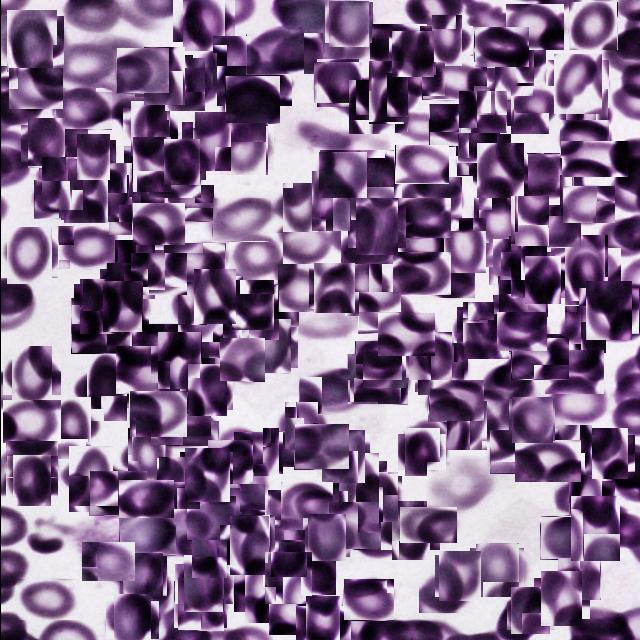red blood cell: (70, 298, 131, 354), (566, 499, 623, 557), (298, 368, 368, 415), (556, 242, 614, 298), (269, 218, 335, 266), (543, 376, 607, 425), (522, 156, 578, 212), (426, 462, 490, 511), (346, 354, 407, 405), (63, 451, 118, 507), (4, 13, 59, 69), (115, 346, 179, 394), (216, 66, 291, 106), (550, 57, 605, 111), (79, 360, 133, 414), (216, 119, 270, 173), (582, 284, 634, 338), (162, 243, 225, 287), (514, 440, 580, 482), (458, 304, 511, 356), (172, 286, 225, 338), (338, 166, 391, 218), (108, 187, 165, 235), (57, 226, 119, 270), (128, 391, 186, 438), (474, 144, 526, 196), (362, 66, 414, 118), (506, 154, 559, 205), (505, 4, 563, 50), (84, 167, 136, 218), (401, 177, 461, 221), (224, 76, 279, 124), (488, 239, 545, 285), (88, 471, 146, 516), (245, 30, 303, 75), (357, 292, 419, 334), (488, 44, 539, 95), (153, 335, 204, 386), (211, 198, 270, 242), (544, 350, 603, 394), (370, 24, 428, 68), (46, 402, 96, 453), (441, 394, 491, 445), (3, 230, 54, 280), (16, 579, 78, 620), (228, 233, 282, 280), (52, 45, 117, 84), (293, 424, 348, 470), (238, 567, 288, 617), (109, 244, 159, 294), (174, 580, 224, 630), (138, 51, 188, 101), (346, 82, 396, 132), (306, 176, 356, 226), (181, 450, 231, 500), (262, 553, 312, 603), (351, 202, 401, 252), (76, 282, 126, 332), (280, 482, 332, 530), (2, 400, 60, 443), (392, 252, 450, 295), (421, 62, 486, 100), (489, 430, 545, 474), (377, 313, 434, 356), (416, 344, 465, 394), (245, 322, 294, 372), (6, 350, 56, 399), (224, 520, 273, 570), (327, 502, 378, 550), (115, 48, 168, 94), (522, 205, 580, 247), (54, 88, 112, 130), (510, 338, 568, 380), (428, 104, 484, 147), (472, 545, 521, 594), (385, 506, 434, 555), (333, 457, 382, 506), (186, 117, 235, 166), (562, 92, 610, 142), (40, 132, 90, 180), (277, 264, 327, 312), (178, 560, 228, 608), (190, 272, 238, 322), (177, 0, 228, 47), (156, 392, 210, 436), (561, 141, 627, 177), (428, 379, 483, 422), (439, 222, 488, 270), (318, 432, 367, 480), (537, 574, 585, 623), (130, 253, 186, 295), (129, 324, 184, 366), (7, 68, 62, 110), (122, 432, 170, 480), (550, 421, 598, 469), (338, 263, 386, 311), (568, 2, 616, 50), (509, 86, 557, 134), (62, 174, 110, 222), (38, 160, 86, 208), (185, 524, 233, 572), (318, 150, 366, 198), (131, 203, 184, 246), (456, 134, 510, 176), (154, 459, 202, 506), (418, 572, 473, 613), (209, 484, 264, 525), (473, 27, 528, 68), (118, 517, 175, 556), (268, 33, 322, 74), (126, 105, 173, 152), (149, 414, 218, 446), (160, 62, 208, 108), (268, 590, 317, 635), (539, 516, 589, 560), (395, 198, 450, 238), (148, 156, 200, 198), (561, 475, 608, 521), (476, 194, 522, 241), (406, 332, 452, 379), (80, 542, 134, 582), (437, 552, 482, 600), (186, 496, 235, 540), (342, 579, 393, 621), (353, 474, 399, 520), (183, 367, 229, 413), (230, 282, 276, 328), (128, 142, 174, 188), (310, 265, 356, 311), (8, 458, 54, 504), (250, 284, 298, 328), (394, 145, 448, 184), (545, 334, 600, 372), (118, 480, 173, 518), (314, 61, 360, 106), (235, 430, 280, 476), (504, 248, 550, 293), (99, 284, 145, 329), (399, 507, 456, 543), (497, 276, 547, 317), (495, 312, 546, 352), (23, 121, 68, 166), (562, 308, 608, 352), (208, 440, 254, 484), (218, 338, 264, 382), (561, 186, 614, 224), (350, 520, 404, 557), (399, 224, 450, 263), (33, 180, 84, 219), (184, 356, 228, 401), (353, 154, 398, 198), (460, 90, 505, 134), (390, 31, 434, 76), (413, 266, 474, 298), (267, 431, 321, 467), (267, 490, 318, 528), (508, 588, 552, 632), (509, 398, 553, 442), (326, 0, 370, 44), (506, 198, 550, 242), (586, 432, 630, 476), (108, 598, 154, 640), (341, 229, 396, 264), (5, 441, 57, 478), (190, 318, 238, 358), (560, 120, 610, 158), (210, 39, 253, 83), (121, 554, 164, 598), (164, 185, 214, 222), (492, 295, 542, 332), (304, 516, 347, 559), (354, 341, 401, 380), (557, 558, 600, 600), (400, 431, 442, 473), (487, 82, 529, 124), (265, 513, 307, 555), (482, 365, 531, 401), (278, 186, 320, 228), (364, 90, 406, 132), (522, 259, 564, 301), (102, 266, 144, 308), (457, 116, 498, 158), (161, 141, 202, 183), (300, 601, 344, 640), (288, 560, 335, 596), (280, 406, 321, 447), (362, 352, 408, 388), (426, 20, 466, 61), (236, 518, 277, 558), (217, 428, 262, 464), (72, 137, 112, 177), (401, 62, 444, 96)
